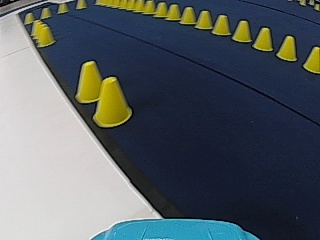cone: (92, 76, 131, 127), (74, 60, 103, 103), (276, 34, 297, 60), (252, 26, 273, 51), (232, 19, 251, 43), (303, 45, 319, 73), (211, 14, 230, 36), (35, 26, 54, 48), (195, 10, 212, 30), (180, 7, 196, 25), (165, 4, 180, 21), (154, 2, 167, 17), (142, 0, 154, 14), (40, 7, 51, 19), (24, 13, 34, 24), (57, 3, 67, 14), (76, 0, 86, 9)
